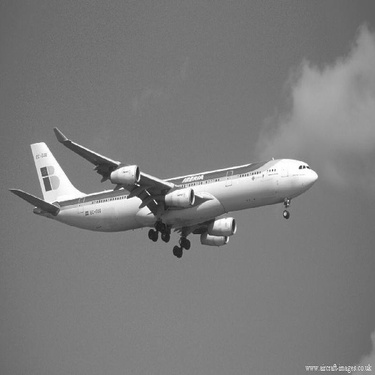airplane: (1, 116, 334, 276)
